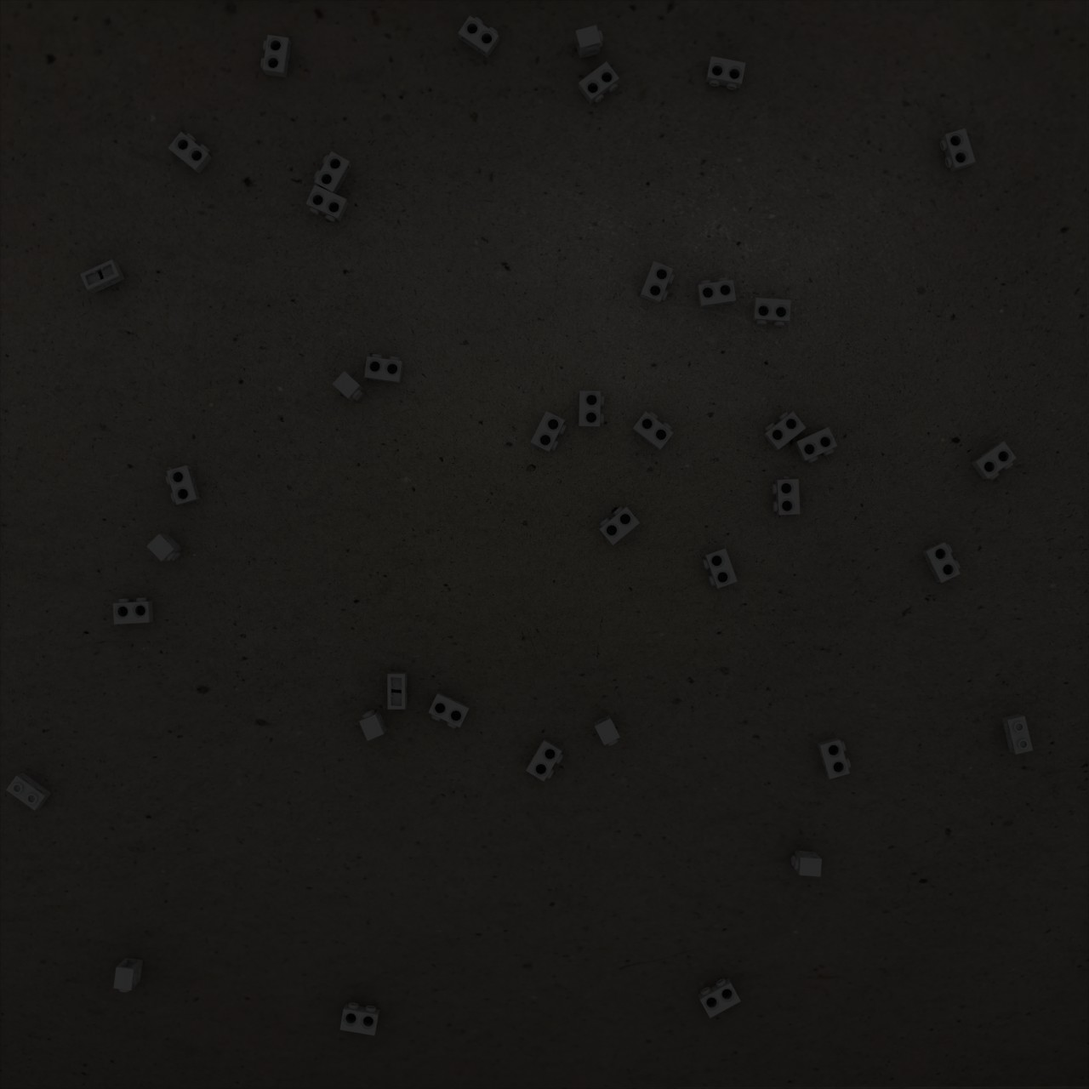lego: (168, 131, 212, 174), (578, 61, 619, 105), (971, 441, 1017, 480), (6, 772, 52, 811), (458, 15, 499, 58), (698, 978, 741, 1018), (763, 411, 806, 451), (314, 151, 352, 196), (632, 411, 674, 451), (306, 184, 349, 222), (526, 738, 563, 782), (922, 542, 961, 583), (599, 506, 640, 545), (940, 128, 976, 172), (794, 427, 838, 463), (80, 259, 125, 294), (428, 692, 470, 729), (530, 411, 567, 453), (640, 261, 675, 304), (702, 548, 738, 589), (165, 465, 201, 505), (817, 737, 851, 779), (705, 56, 746, 90), (340, 1002, 380, 1036), (260, 35, 291, 78), (1001, 714, 1033, 755), (696, 277, 736, 308), (364, 354, 404, 384), (752, 297, 791, 326), (113, 597, 154, 624), (146, 534, 183, 562), (113, 958, 143, 992), (772, 479, 800, 515), (332, 371, 364, 402), (578, 391, 604, 428), (575, 25, 603, 59), (359, 709, 388, 741), (593, 714, 620, 746), (791, 850, 822, 877), (387, 672, 407, 709)
